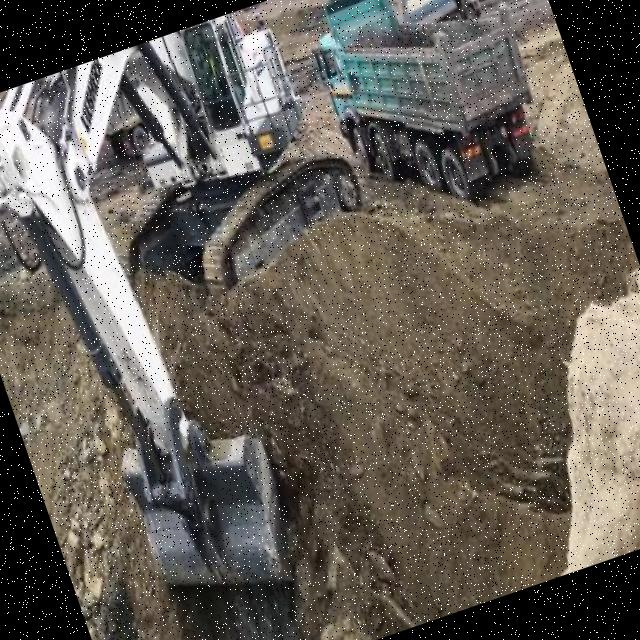Dump Truck: (302, 0, 560, 223), (375, 0, 488, 51), (0, 110, 37, 234)
Excavator: (0, 0, 474, 636)
